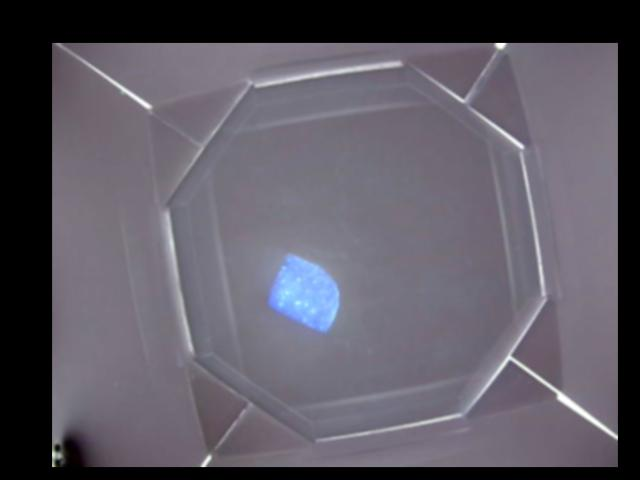Potato: (268, 254, 337, 330)
